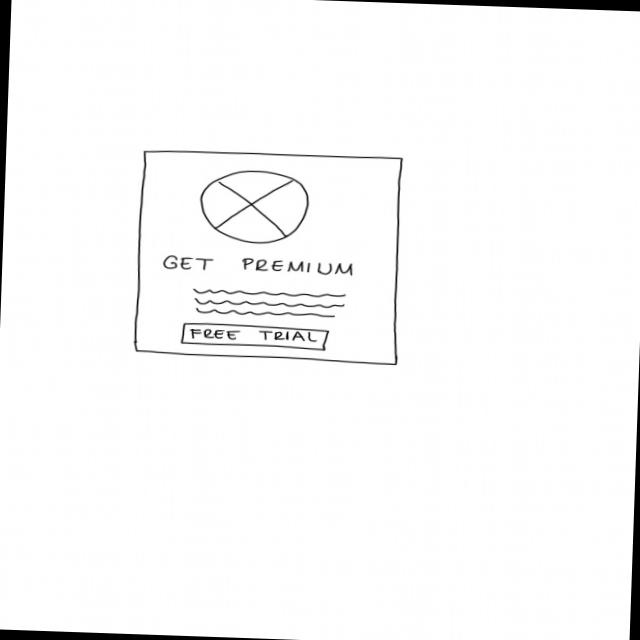button: (180, 321, 331, 352)
container: (133, 148, 406, 366)
image: (199, 168, 312, 246)
label: (162, 255, 357, 279)
textbox: (193, 288, 349, 320)
